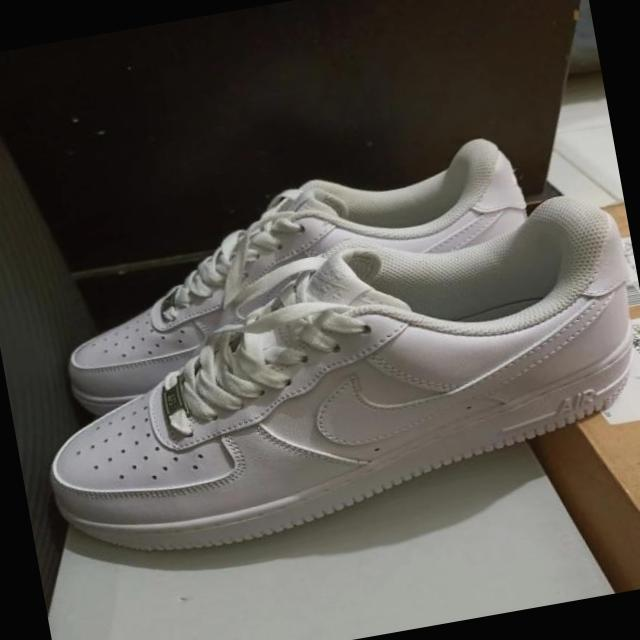nike_original_airforce: (14, 188, 640, 575), (0, 132, 557, 418)
